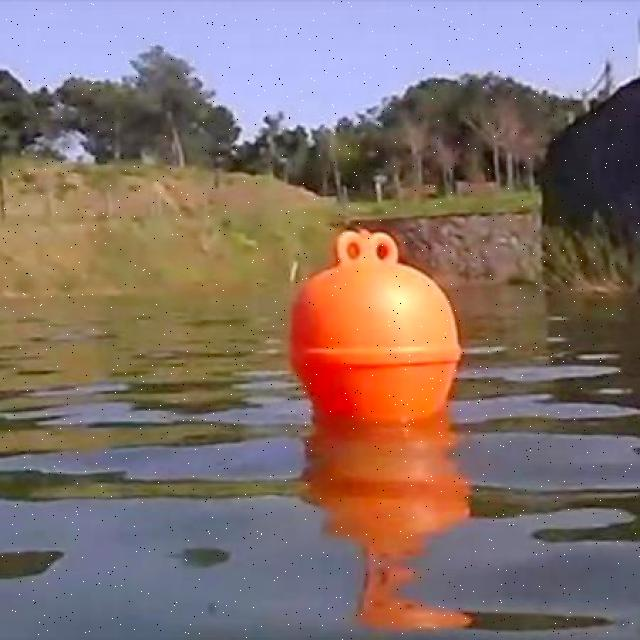buoy: (294, 232, 461, 411)
